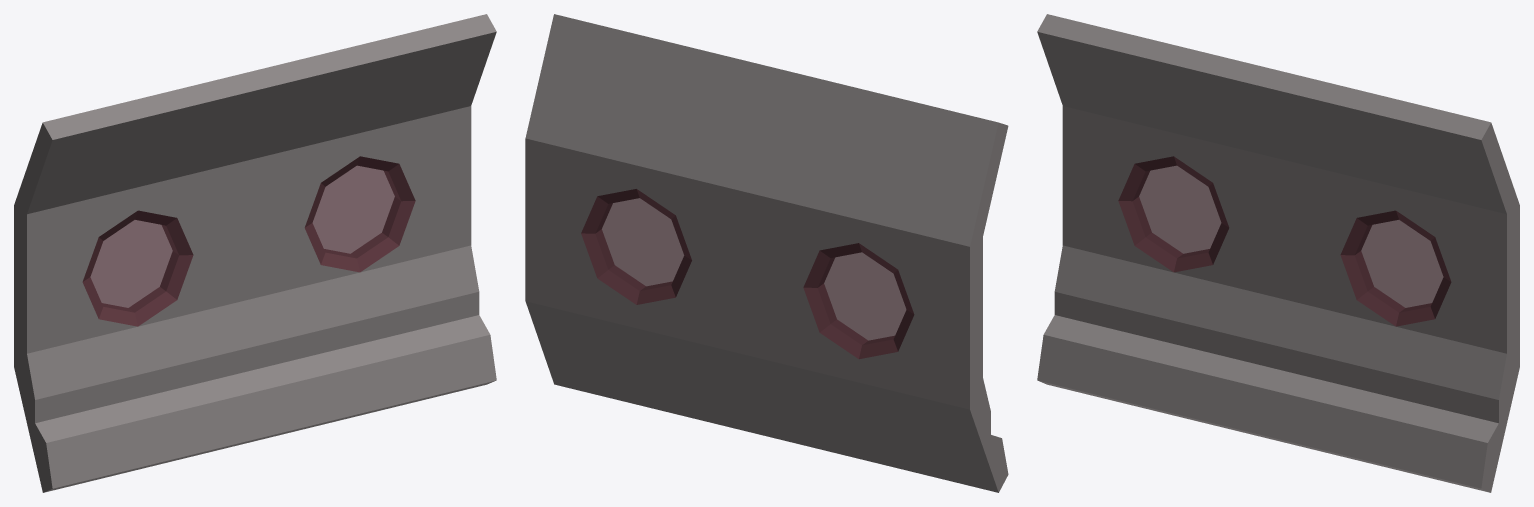
The model's file is scifi-windows-corridor.fbx.
3 renders of one model, left to right at view 1: azimuth 30°, elevation 25°; view 2: azimuth 150°, elevation 25°; view 3: azimuth 330°, elevation 25°, orthographic.
Parts seen in each view (by area): view 1: scifi-windows-corridor; view 2: scifi-windows-corridor; view 3: scifi-windows-corridor.
Part boxes in pixels (x1,y1,x2,y2): scifi-windows-corridor: [14, 14, 496, 492]; scifi-windows-corridor: [525, 14, 1008, 492]; scifi-windows-corridor: [1037, 14, 1519, 492].
Bounding box in the file's own units: 4 × 3.19 × 0.6.
